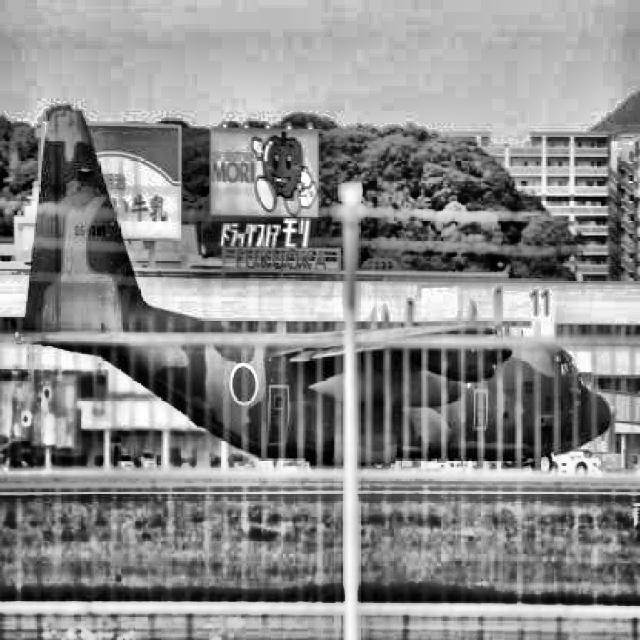C130: (14, 108, 612, 474)
